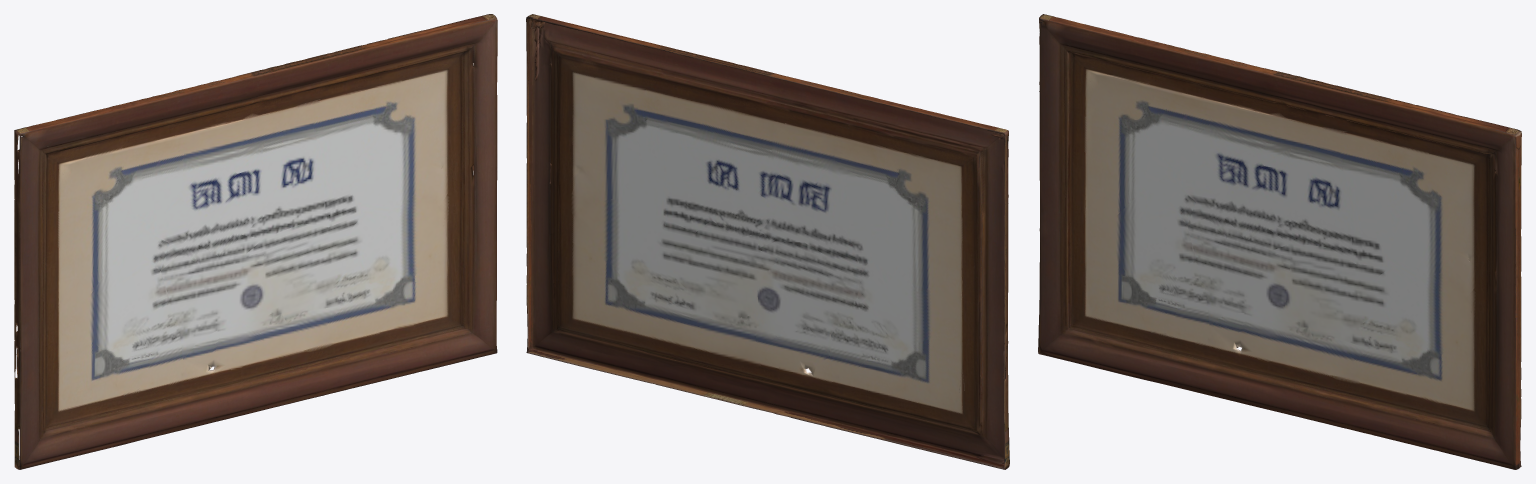
Rendered from kosher_cert.glb.
The picture shows the model from 3 angles, left to right: view 1: azimuth 30°, elevation 25°; view 2: azimuth 150°, elevation 25°; view 3: azimuth 330°, elevation 25°; orthographic projection.
Size of the model in its own units: 1.98 by 1.33 by 0.0497.
Materials: 1 (1 with a texture image).
